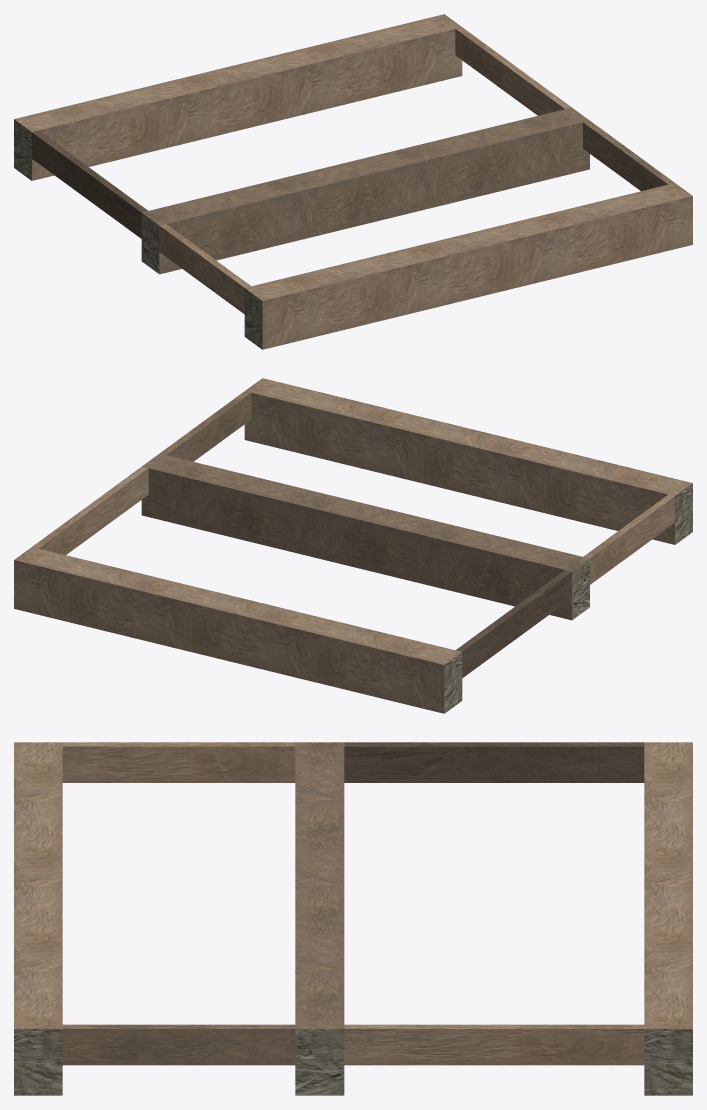
File: RafterCenterC.fbx
The picture shows the model from 3 angles, top to bottom: view 1: azimuth 30°, elevation 25°; view 2: azimuth 150°, elevation 25°; view 3: azimuth 270°, elevation 25°; orthographic projection. The views are drawn at different scales.
Parts seen in each view (by area): view 1: RafterCenterC; view 2: RafterCenterC; view 3: RafterCenterC.
Part boxes in pixels (box(x1,y1,x2,y2)): RafterCenterC: box(14, 14, 692, 349); RafterCenterC: box(14, 378, 692, 713); RafterCenterC: box(14, 742, 692, 1095).
Size of the model in its own units: 374 by 40.53 by 374.
